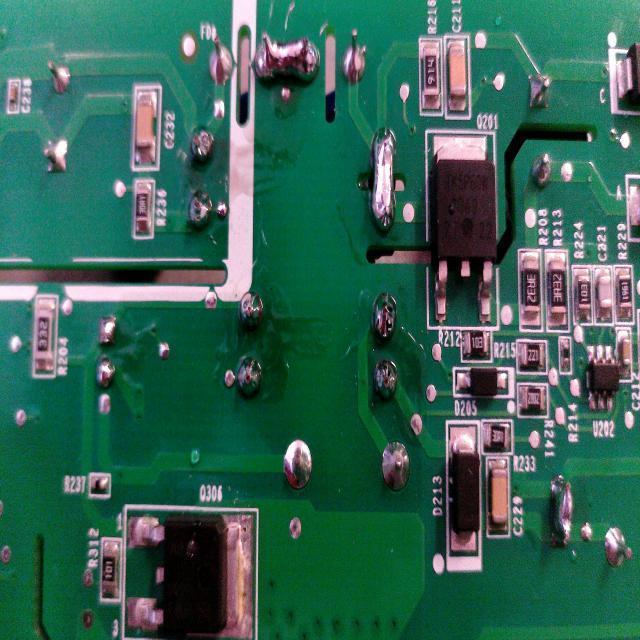Soldering shorted: (249, 27, 322, 88), (363, 118, 398, 242), (542, 468, 576, 553)
